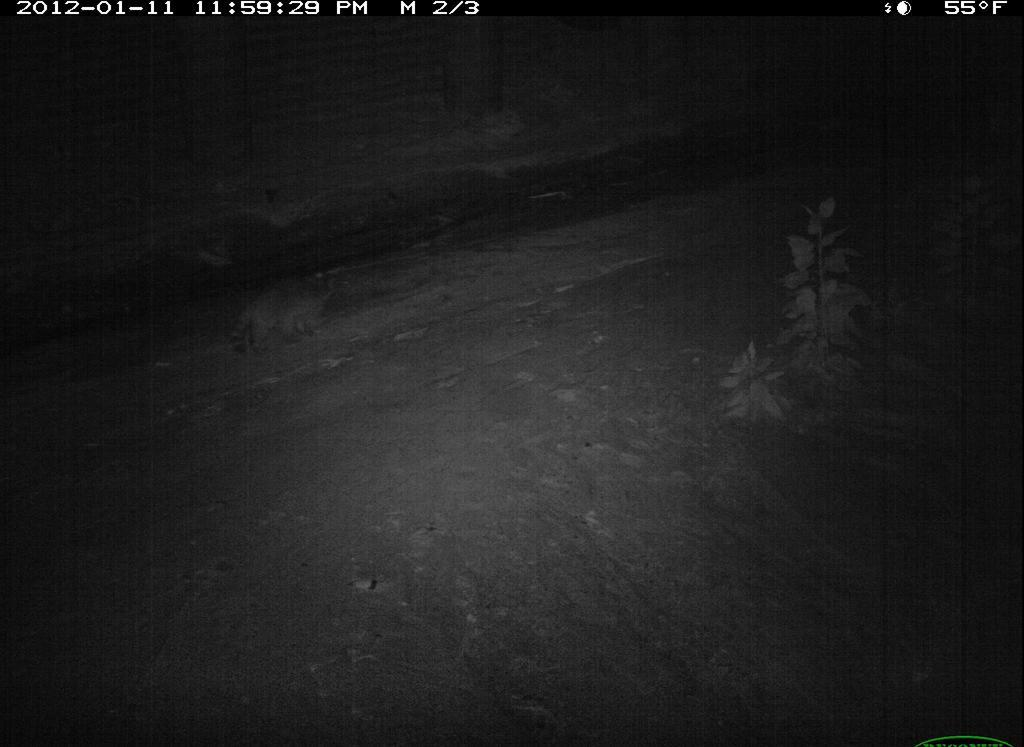raccoon: (222, 269, 345, 364)
